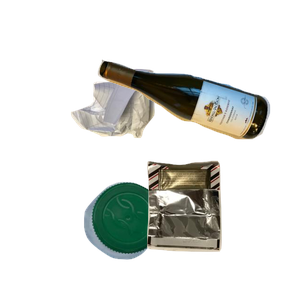glass: (95, 57, 300, 189)
paper: (68, 66, 215, 197)
plastic: (81, 179, 239, 300)
trash: (144, 158, 300, 300)
